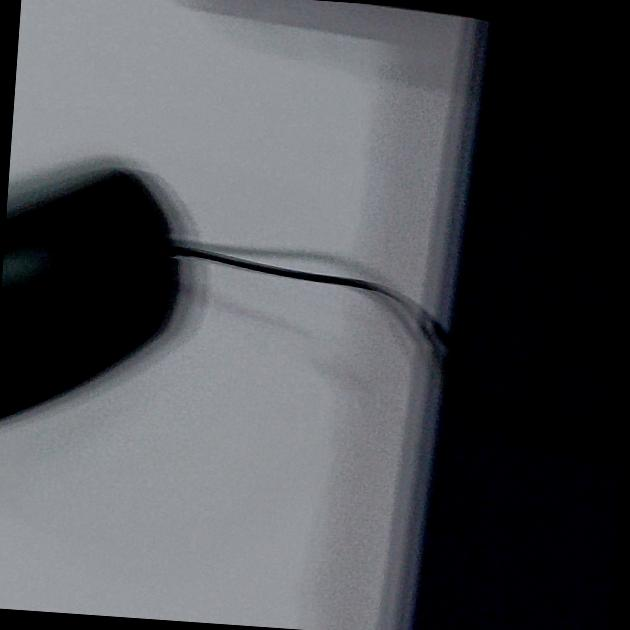mouse: (0, 145, 284, 464)
